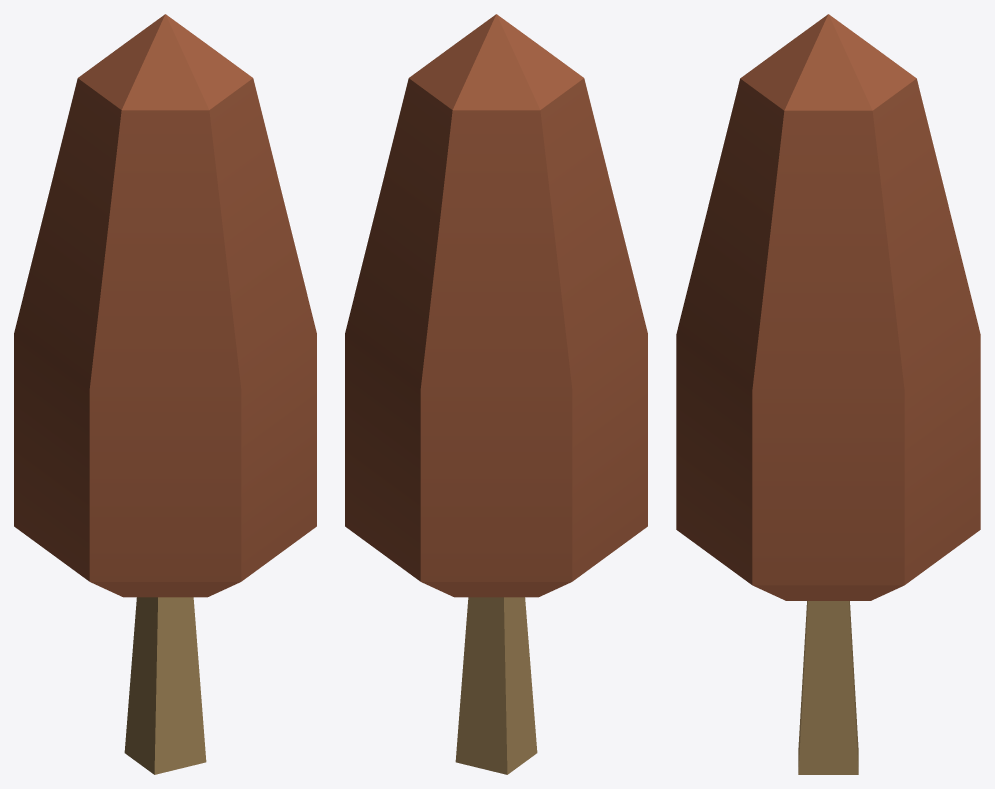
The model's file is Oak_Fall_01.obj.
3 renders of one model, left to right at view 1: azimuth 30°, elevation 25°; view 2: azimuth 150°, elevation 25°; view 3: azimuth 270°, elevation 25°, orthographic.
Visible parts, largest first — view 1: Mesh1_Oak_Fall_Model; view 2: Mesh1_Oak_Fall_Model; view 3: Mesh1_Oak_Fall_Model.
Boxes of the visible parts, x1,y1,x2,y2 form: Mesh1_Oak_Fall_Model: (14,14,316,774); Mesh1_Oak_Fall_Model: (345,14,647,774); Mesh1_Oak_Fall_Model: (676,14,980,774).
Size of the model in its own units: 1.58 by 4.93 by 1.82.
